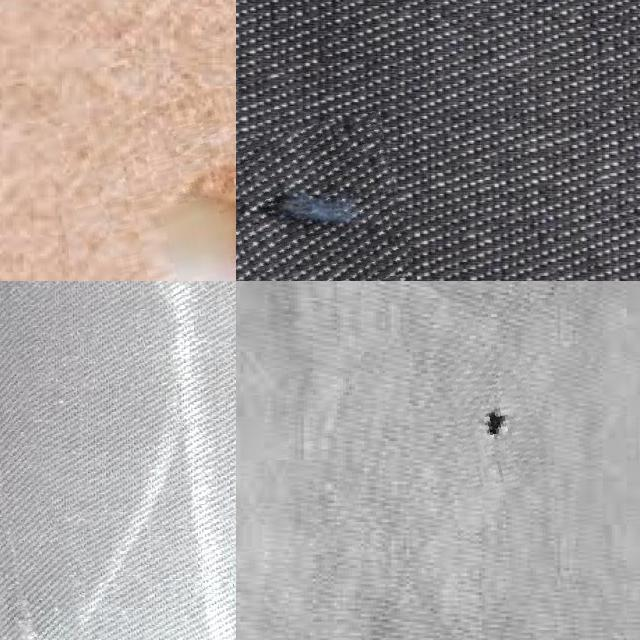other: (56, 82, 236, 281), (448, 352, 544, 494)
stains: (236, 119, 408, 281), (0, 281, 58, 640)
